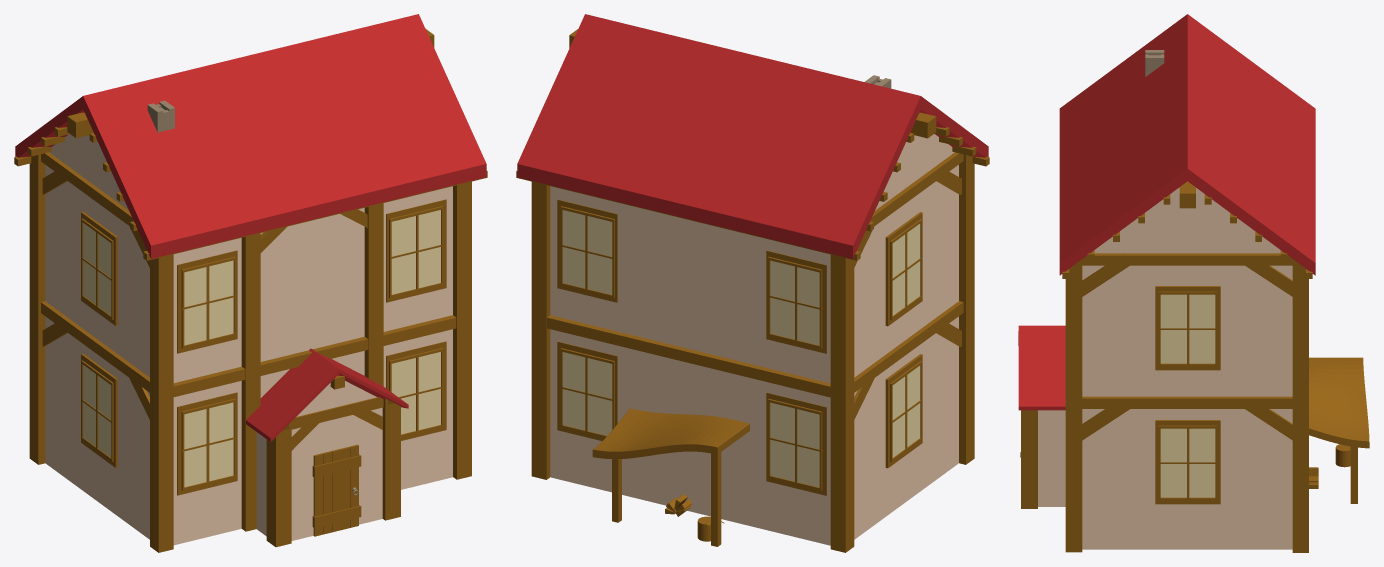
Rendered from T2HouseV1.fbx.
3 views of the same model, side by side, from view 1: azimuth 30°, elevation 25°; view 2: azimuth 150°, elevation 25°; view 3: azimuth 270°, elevation 25° (orthographic). The views are drawn at different scales.
Parts seen in each view (by area): view 1: Cube, Cube.002, Cube.007, Cube.022, Cube.018, Cube.003, Cube.004, Cube.010, Cube.006, Cube.036, Cube.041, Cube.009 (+15 smaller); view 2: Cube, Cube.022, Cube.018, Cube.006, Cube.005, Cube.026, Cube.003, Cube.036, Cube.030, Cube.009, Cube.021, Cube.017 (+9 smaller); view 3: Cube, Cube.002, Cube.004, Cube.026, Cube.005, Cube.030, Cube.009, Cube.035, Cube.045, Cube.010, Cube.029, Cube.008 (+4 smaller).
Boxes of the visible parts, x1=… form: Cube: x1=15, y1=14, x2=486, y2=545; Cube.002: x1=246, y1=348, x2=408, y2=540; Cube.007: x1=241, y1=203, x2=383, y2=531; Cube.022: x1=181, y1=206, x2=443, y2=348; Cube.018: x1=181, y1=348, x2=443, y2=490; Cube.003: x1=150, y1=254, x2=173, y2=552; Cube.004: x1=453, y1=181, x2=471, y2=479; Cube.010: x1=266, y1=398, x2=400, y2=547; Cube.006: x1=29, y1=154, x2=45, y2=464; Cube.036: x1=173, y1=315, x2=456, y2=396; Cube.041: x1=313, y1=444, x2=358, y2=536; Cube.009: x1=81, y1=360, x2=113, y2=461; Cube: x1=517, y1=14, x2=988, y2=545; Cube.022: x1=560, y1=206, x2=822, y2=348; Cube.018: x1=560, y1=348, x2=822, y2=490; Cube.006: x1=830, y1=254, x2=854, y2=552; Cube.005: x1=531, y1=181, x2=550, y2=479; Cube.026: x1=592, y1=408, x2=749, y2=459; Cube.003: x1=959, y1=154, x2=974, y2=464; Cube.036: x1=547, y1=315, x2=830, y2=397; Cube.030: x1=890, y1=219, x2=922, y2=320; Cube.009: x1=890, y1=361, x2=922, y2=462; Cube.021: x1=557, y1=199, x2=826, y2=353; Cube.017: x1=557, y1=341, x2=826, y2=495; Cube: x1=1059, y1=14, x2=1315, y2=549; Cube.002: x1=1018, y1=325, x2=1065, y2=506; Cube.004: x1=1065, y1=259, x2=1082, y2=552; Cube.026: x1=1309, y1=357, x2=1369, y2=448; Cube.005: x1=1292, y1=259, x2=1308, y2=552; Cube.030: x1=1158, y1=291, x2=1216, y2=366; Cube.009: x1=1158, y1=425, x2=1216, y2=500; Cube.035: x1=1082, y1=396, x2=1292, y2=408; Cube.045: x1=1082, y1=253, x2=1292, y2=265; Cube.010: x1=1021, y1=410, x2=1037, y2=508; Cube.029: x1=1155, y1=286, x2=1220, y2=370; Cube.008: x1=1155, y1=420, x2=1220, y2=504.
Size of the model in its own units: 502 by 552 by 451.
